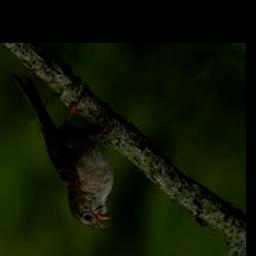Sparrow: (14, 75, 115, 232)
